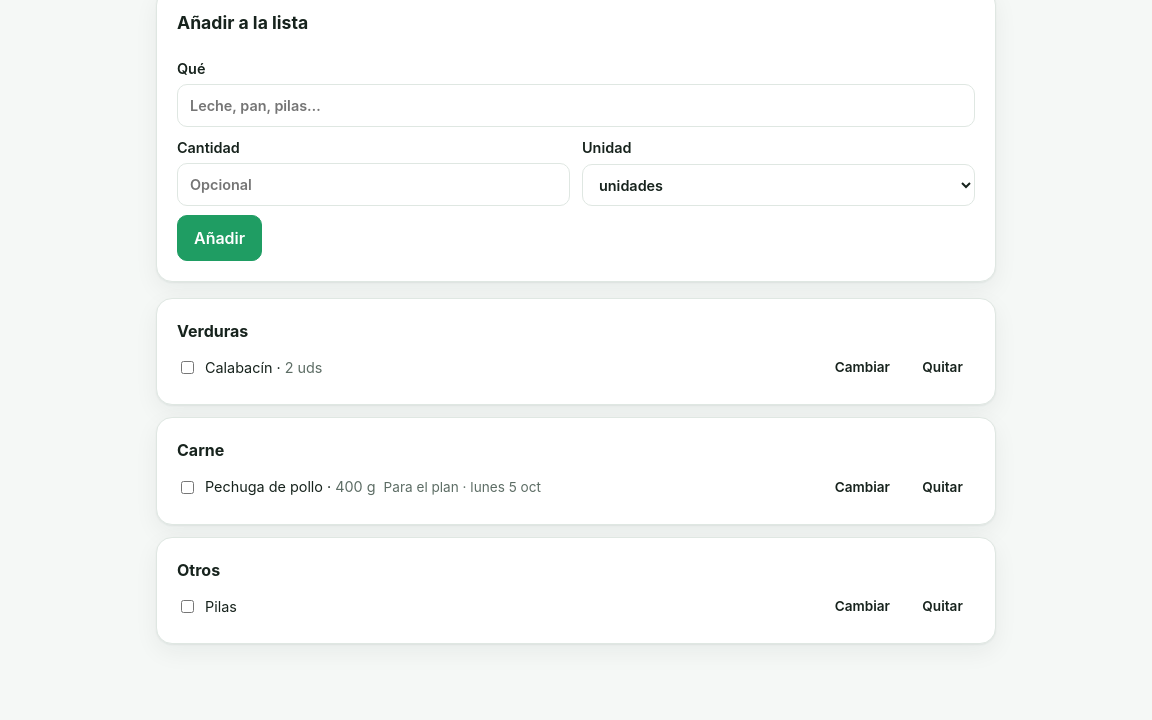
Test: shopping list › explains why something could not be done
(page scrolled)
Click the button with aria-label "Quitar Pilas": (943, 607) [910,590,975,623]
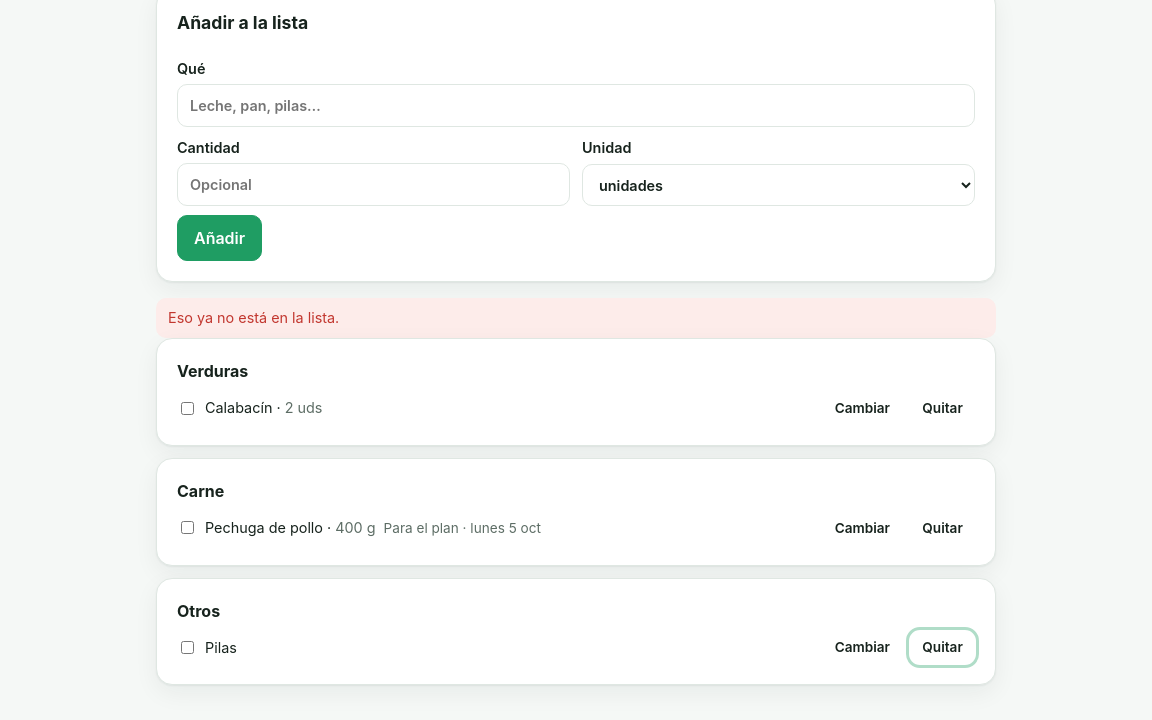
Expected: the text "Eso ya no está en la lista." is shown, [156,298,996,338]
